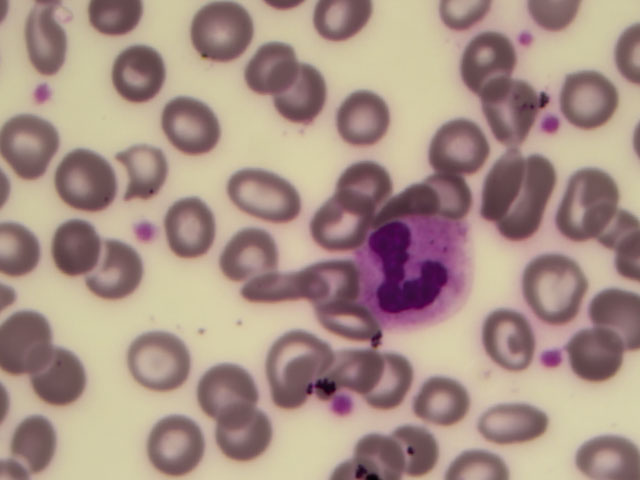Platelets: (32, 84, 62, 108), (131, 220, 158, 241), (334, 392, 354, 416), (511, 30, 538, 47), (542, 349, 564, 369), (544, 112, 561, 136)
RBC: (18, 10, 79, 71), (106, 41, 167, 102), (163, 98, 224, 159), (115, 144, 176, 205), (62, 143, 123, 204), (6, 111, 67, 172), (43, 211, 104, 272), (89, 240, 150, 301), (169, 195, 230, 256), (233, 165, 294, 226), (220, 226, 281, 287), (243, 255, 304, 316), (290, 255, 351, 316), (316, 191, 377, 252), (326, 159, 387, 220), (337, 84, 398, 145), (280, 76, 341, 137), (249, 37, 310, 98), (188, 2, 249, 63), (450, 36, 511, 97), (475, 75, 536, 136), (433, 113, 494, 174), (420, 163, 481, 224), (476, 151, 537, 212), (502, 167, 563, 228), (560, 176, 621, 237), (568, 82, 629, 143), (579, 208, 640, 269), (522, 253, 583, 314), (461, 311, 522, 372), (565, 320, 626, 381), (579, 286, 640, 347), (571, 419, 632, 480), (472, 385, 533, 446), (409, 375, 470, 436), (387, 404, 448, 465), (351, 419, 412, 480), (366, 346, 427, 407), (327, 335, 388, 396), (314, 301, 375, 362), (262, 332, 323, 393), (200, 358, 261, 419), (216, 402, 277, 463), (153, 412, 214, 473), (125, 333, 186, 394), (37, 349, 98, 410), (2, 306, 63, 367), (1, 419, 61, 480)
WBC: (367, 221, 473, 325)
